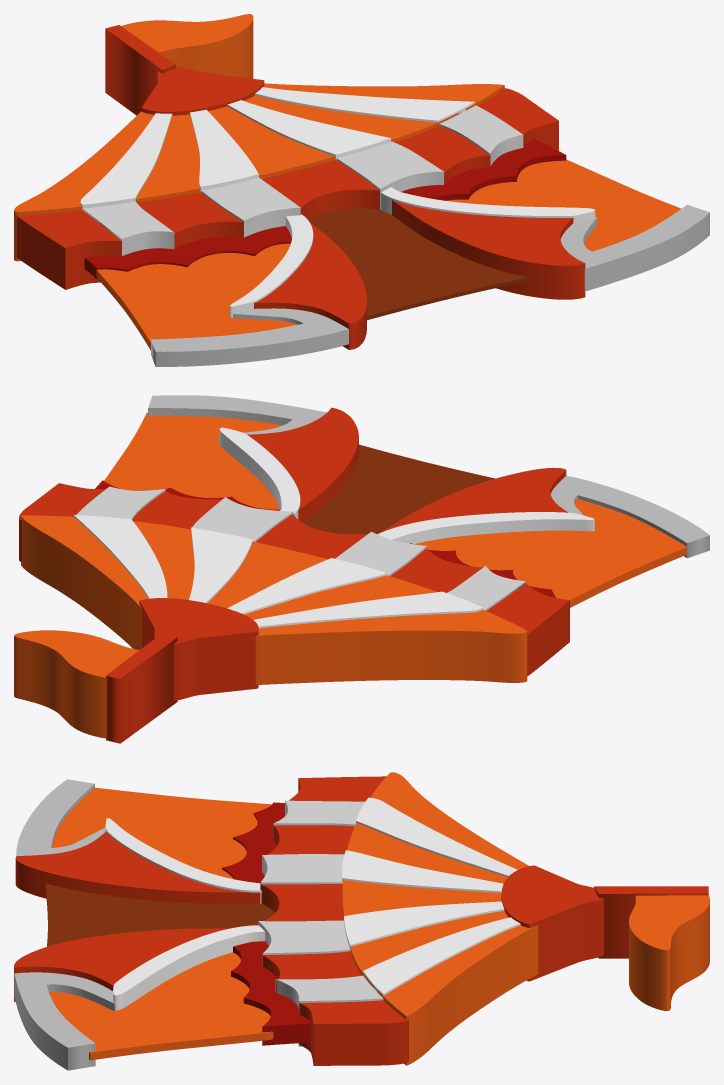
Rendered from emoji_u1f3aa.glb.
3 views of the same model, one above another, from view 1: azimuth 30°, elevation 25°; view 2: azimuth 150°, elevation 25°; view 3: azimuth 270°, elevation 25° (orthographic).
Visible parts, largest first — view 1: emoji_u1f3aa; view 2: emoji_u1f3aa; view 3: emoji_u1f3aa.
Boxes of the visible parts, x1,y1,x2,y2 form: emoji_u1f3aa: (14,14,709,366); emoji_u1f3aa: (14,395,709,743); emoji_u1f3aa: (14,772,709,1070).
Bounding box in the file's own units: 0.0307 × 0.0034 × 0.0331.
